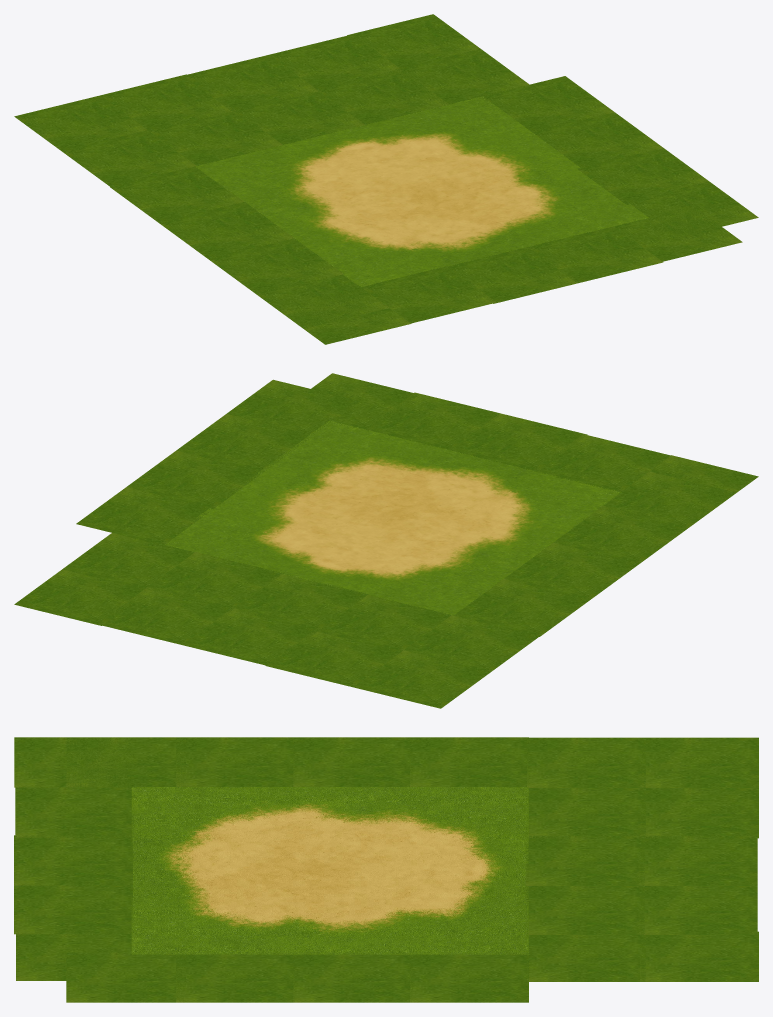
The picture shows the model from 3 angles, top to bottom: view 1: azimuth 30°, elevation 25°; view 2: azimuth 150°, elevation 25°; view 3: azimuth 270°, elevation 25°; orthographic projection. The views are drawn at different scales.
Parts seen in each view (by area): view 1: Plane.001, Plane.009, Plane.019, Plane.003, Plane.002, Plane.008, Plane.010, Plane.013, Plane.007, Plane.016, Plane.020, Plane.022 (+12 smaller); view 2: Plane.001, Plane, Plane.005, Plane.015, Plane.014, Plane.011, Plane.004, Plane.022, Plane.003, Plane.007, Plane.002, Plane.016 (+12 smaller); view 3: Plane.001, Plane.007, Plane.004, Plane.003, Plane.019, Plane.009, Plane, Plane.002, Plane.010, Plane.008, Plane.022, Plane.014 (+12 smaller).
Boxes of the visible parts, bbox=[...] form: Plane.001: bbox=[195, 96, 648, 286]; Plane.009: bbox=[159, 201, 293, 259]; Plane.019: bbox=[183, 54, 318, 111]; Plane.003: bbox=[361, 266, 495, 323]; Plane.002: bbox=[528, 226, 663, 283]; Plane.008: bbox=[110, 166, 244, 222]; Plane.010: bbox=[209, 238, 343, 293]; Plane.013: bbox=[395, 48, 529, 105]; Plane.007: bbox=[64, 130, 196, 186]; Plane.016: bbox=[577, 148, 708, 204]; Plane.020: bbox=[270, 34, 402, 90]; Plane.022: bbox=[14, 95, 146, 152]; Plane.001: bbox=[165, 420, 621, 615]; Plane: bbox=[450, 413, 587, 471]; Plane.005: bbox=[145, 552, 282, 609]; Plane.015: bbox=[127, 450, 262, 508]; Plane.014: bbox=[76, 487, 211, 545]; Plane.011: bbox=[599, 471, 735, 529]; Plane.004: bbox=[232, 574, 368, 631]; Plane.022: bbox=[353, 650, 488, 708]; Plane.003: bbox=[533, 434, 670, 492]; Plane.007: bbox=[404, 615, 539, 673]; Plane.002: bbox=[365, 392, 501, 450]; Plane.016: bbox=[176, 414, 313, 471]; Plane.001: bbox=[131, 787, 528, 954]; Plane.007: bbox=[527, 737, 645, 787]; Plane.004: bbox=[525, 835, 644, 885]; Plane.003: bbox=[15, 787, 134, 837]; Plane.019: bbox=[638, 835, 757, 885]; Plane.009: bbox=[293, 737, 412, 787]; Plane: bbox=[14, 835, 132, 885]; Plane.002: bbox=[14, 885, 132, 934]; Plane.010: bbox=[176, 737, 294, 787]; Plane.008: bbox=[410, 737, 528, 787]; Plane.022: bbox=[640, 737, 758, 787]; Plane.014: bbox=[410, 952, 528, 1002].
Bounding box in the file's own units: 31.65 × 0 × 37.55.
Materials: 2 (2 with a texture image).
